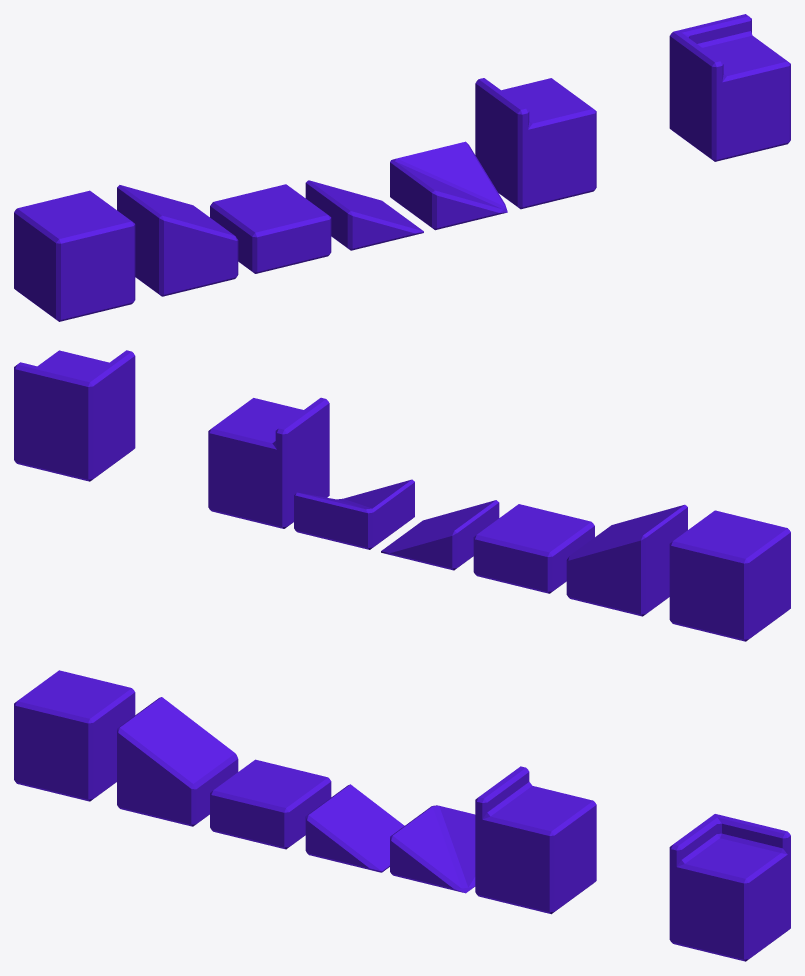
The model's file is world-blocks-v1.glb.
3 views of the same model, one above another, from view 1: azimuth 30°, elevation 25°; view 2: azimuth 150°, elevation 25°; view 3: azimuth 330°, elevation 25° (orthographic).
Visible parts, largest first — view 1: BlockWallCorner, BlockWall, Block, RamTop, BlockShort, RampLowerCorner, RampBottom; view 2: BlockWallCorner, Block, BlockWall, RamTop, BlockShort, RampLowerCorner, RampBottom; view 3: BlockWallCorner, BlockWall, Block, RamTop, BlockShort, RampLowerCorner, RampBottom.
Part boxes in pixels (<box>): BlockWallCorner: <box>669,14,790,161</box>; BlockWall: <box>475,78,596,209</box>; Block: <box>14,190,135,321</box>; RamTop: <box>117,185,238,296</box>; BlockShort: <box>210,184,331,273</box>; RampLowerCorner: <box>390,141,507,230</box>; RampBottom: <box>305,180,423,250</box>; BlockWallCorner: <box>14,350,135,481</box>; Block: <box>669,510,790,641</box>; BlockWall: <box>208,397,329,528</box>; RamTop: <box>566,504,687,616</box>; BlockShort: <box>473,504,594,593</box>; RampLowerCorner: <box>294,479,414,549</box>; RampBottom: <box>381,500,499,570</box>; BlockWallCorner: <box>669,814,790,961</box>; BlockWall: <box>475,766,596,914</box>; Block: <box>14,670,135,801</box>; RamTop: <box>117,697,238,826</box>; BlockShort: <box>210,759,331,849</box>; RampLowerCorner: <box>390,805,475,893</box>; RampBottom: <box>305,784,404,872</box>.
Size of what is drawn, in the model's own units: 18.57 by 2.4 by 2.
